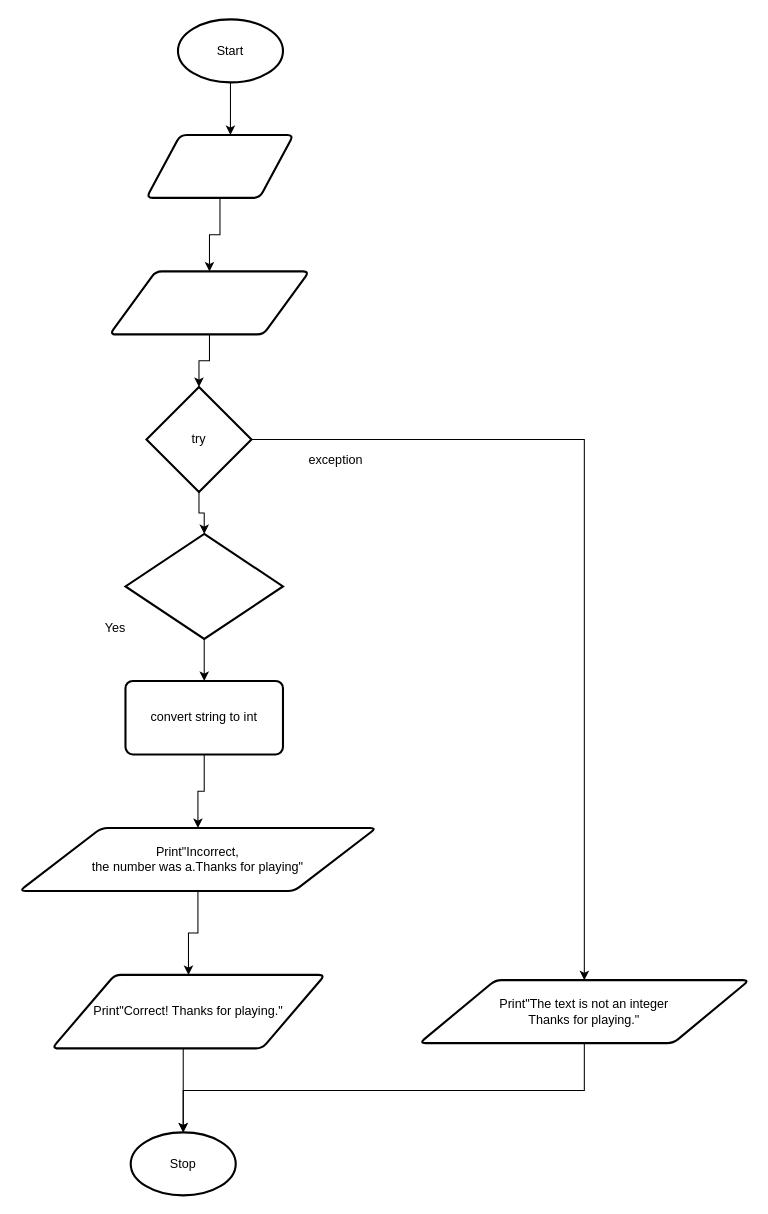
Image size: 768x1214. Some labels were removed from this diagram. Here are the shapes that lost their labels. From the top down, the centre of each, then its label:
At point (219, 165): "Get number from the user".
At point (209, 302): "Create random number".
At point (204, 585): "Check the number is correct or not".
